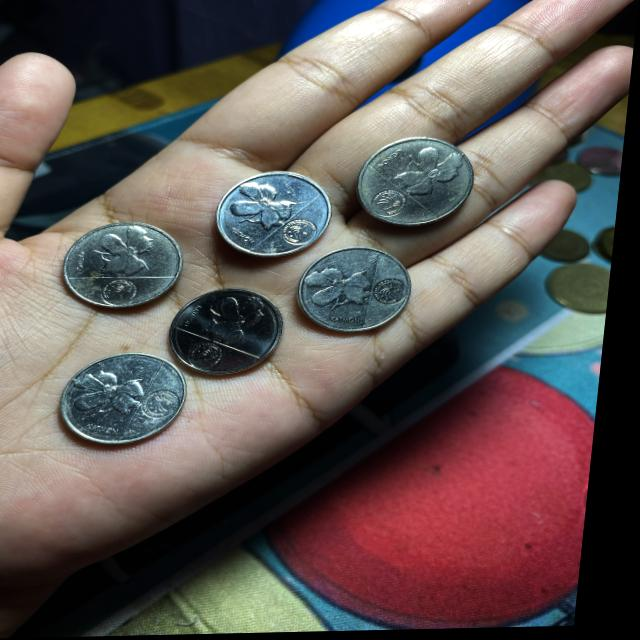25Cent_New_Back: (78, 363, 153, 430), (303, 259, 376, 316), (86, 226, 154, 279), (228, 179, 299, 224), (404, 146, 461, 197)
